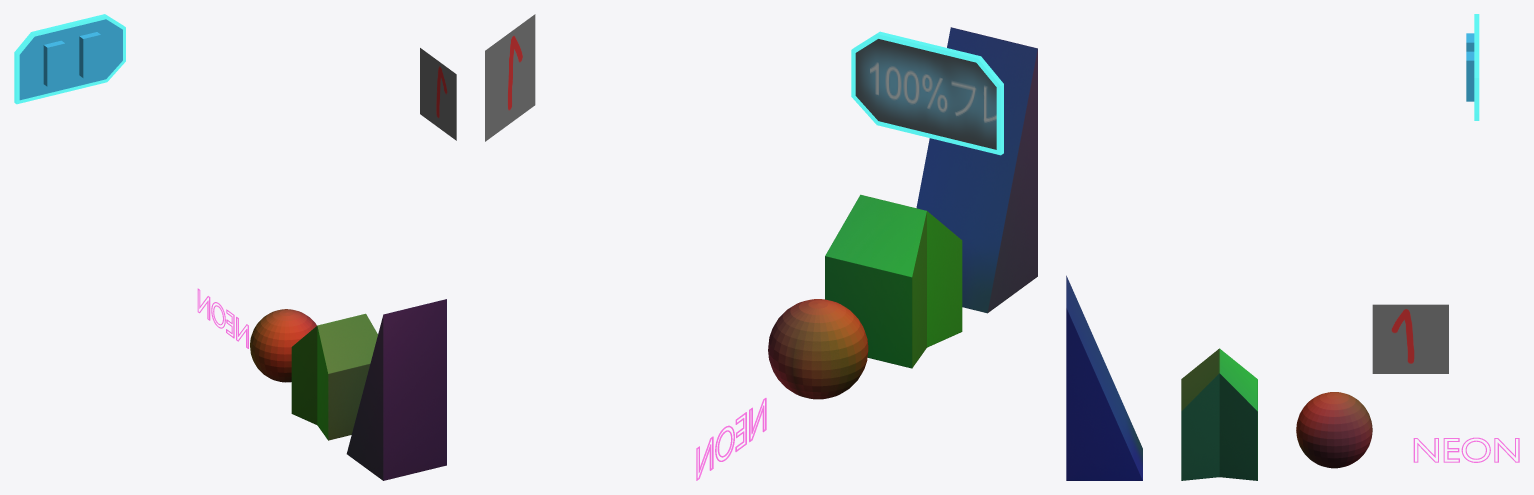
The model's file is sceneTest2.glb.
3 views of the same model, side by side, from view 1: azimuth 30°, elevation 25°; view 2: azimuth 150°, elevation 25°; view 3: azimuth 270°, elevation 25° (orthographic). The views are drawn at different scales.
Visible parts, largest first — view 1: Obj.001, Plane.002, Plane.001, Neon; view 2: Obj.001, Plane.002, Plane.001, Neon; view 3: Obj.001, Plane.001, Plane.002, Neon.
Part boxes in pixels (left/top/right/bottom): Obj.001: left=250, top=299, right=446, bottom=480; Plane.002: left=14, top=14, right=125, bottom=104; Plane.001: left=420, top=48, right=456, bottom=140; Neon: left=197, top=288, right=248, bottom=348; Obj.001: left=768, top=27, right=1037, bottom=399; Plane.002: left=851, top=31, right=1003, bottom=155; Plane.001: left=485, top=14, right=535, bottom=141; Neon: left=696, top=398, right=766, bottom=480; Obj.001: left=1066, top=275, right=1372, bottom=480; Plane.001: left=1372, top=304, right=1448, bottom=373; Plane.002: left=1466, top=14, right=1479, bottom=120; Neon: left=1413, top=437, right=1519, bottom=462.
Size of what is drawn, in the model's own units: 12.29 by 10.26 by 11.84.
6 materials, 3 textured.
